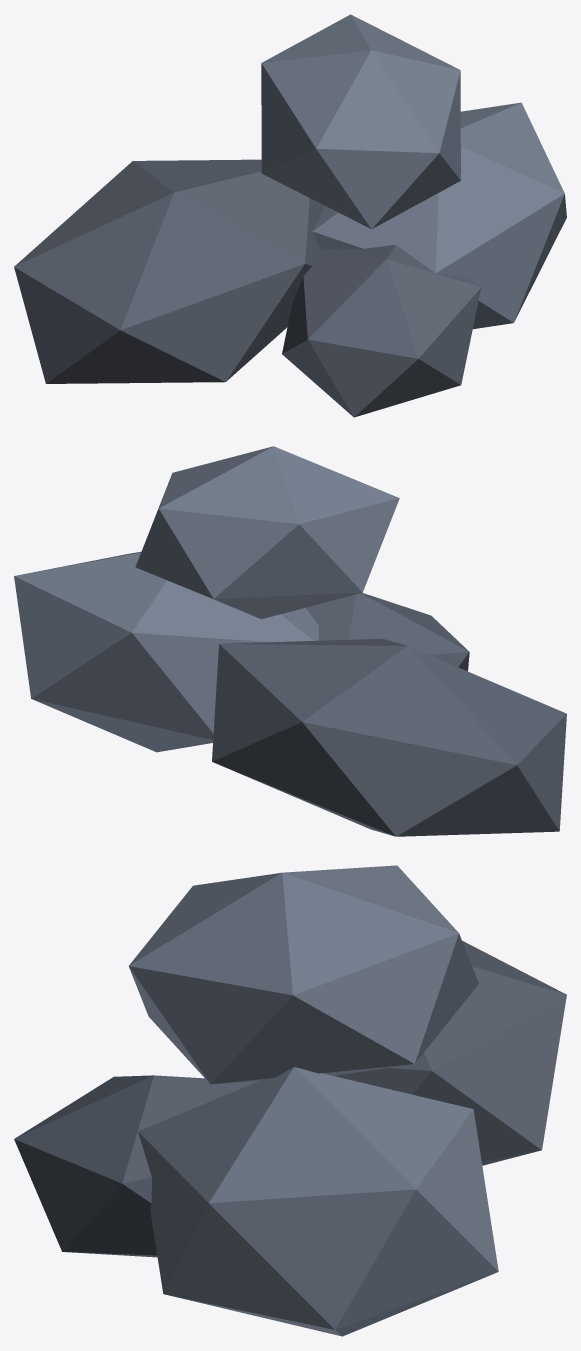
The model's file is EXTG_NorthCairn_00.glb.
3 renders of one model, top to bottom at view 1: azimuth 30°, elevation 25°; view 2: azimuth 150°, elevation 25°; view 3: azimuth 270°, elevation 25°, orthographic. The views are drawn at different scales.
Parts seen in each view (by area): view 1: EXTG_NorthCairn_00; view 2: EXTG_NorthCairn_00; view 3: EXTG_NorthCairn_00.
Part boxes in pixels (<box>): EXTG_NorthCairn_00: <box>14,14,566,417</box>; EXTG_NorthCairn_00: <box>14,446,566,836</box>; EXTG_NorthCairn_00: <box>14,865,566,1336</box>.
Size of the model in its own units: 1.1 by 0.6147 by 0.7602.
